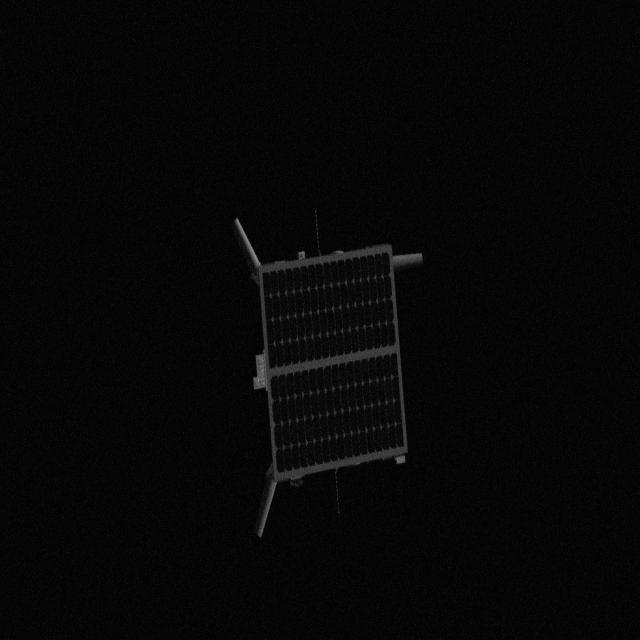satellite: (230, 210, 420, 530)
